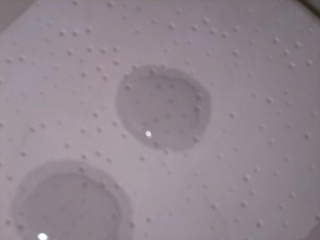Water_detected: (33, 176, 126, 240), (126, 71, 198, 136)
